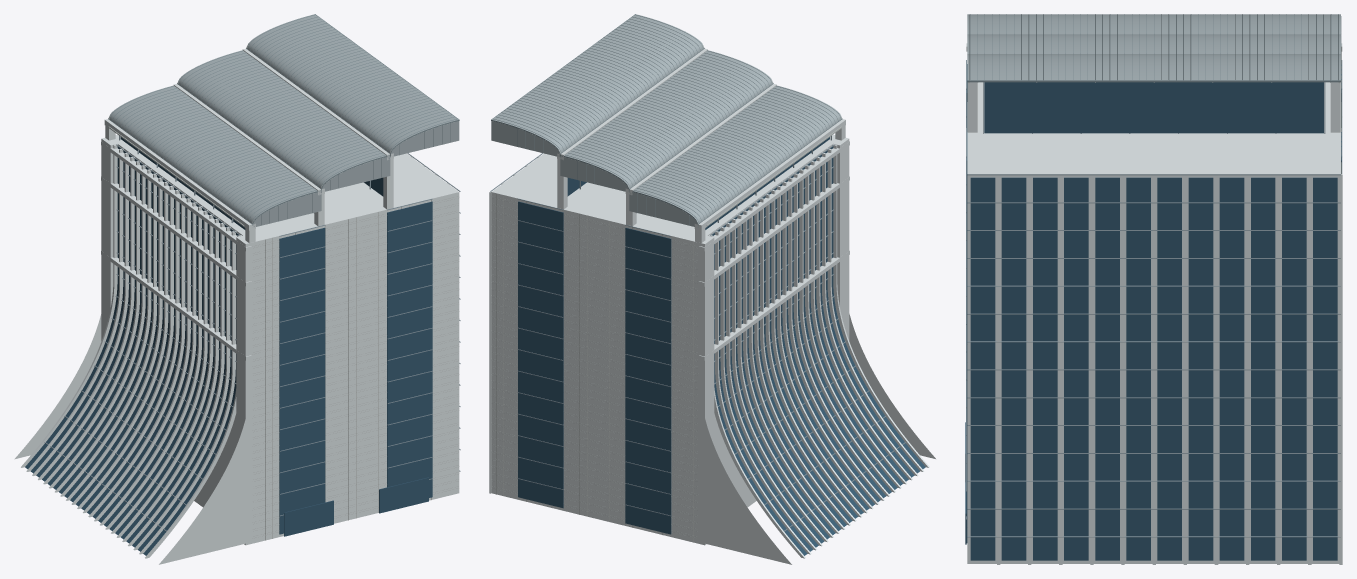
3 renders of one model, left to right at view 1: azimuth 30°, elevation 25°; view 2: azimuth 150°, elevation 25°; view 3: azimuth 270°, elevation 25°, orthographic. The views are drawn at different scales.
Parts seen in each view (by area): view 1: SolidSweptWhiteCheeks, ContinuousWhiteVerticalFins, PaleStructuralTowerCore, EndElevationTallInsetGlass, SweptBlueGreyCurtainWall, CrownTier3_CurvedMetalSkin, CrownTier1_CurvedMetalSkin, CrownTier2_CurvedMetalSkin, WideStoneEdgeSpines, CrownTier3_FoldedStandingSeams, CrownTier2_FoldedStandingSeams, CrownTier1_FoldedStandingSeams (+13 smaller); view 2: PaleStructuralTowerCore, ContinuousWhiteVerticalFins, SolidSweptWhiteCheeks, EndElevationTallInsetGlass, SweptBlueGreyCurtainWall, CrownTier3_CurvedMetalSkin, CrownTier1_CurvedMetalSkin, CrownTier2_CurvedMetalSkin, WideStoneEdgeSpines, CrownTier3_FoldedStandingSeams, CrownTier1_FoldedStandingSeams, CrownTier2_FoldedStandingSeams (+13 smaller); view 3: InnerFaceNarrowWindowStrips, PaleStructuralTowerCore, InnerFaceStoneVerticalBands, RecessedCrownGlazing, CrownTier3_CurvedMetalSkin, InnerFaceFineStoreyBands, CrownTier1_CurvedMetalSkin, CrownTier2_CurvedMetalSkin, CrownTier3_FoldedStandingSeams, CrownTier1_FoldedStandingSeams, CrownTier2_FoldedStandingSeams, CrownTier3_FoldedLeadingAndRearEdges (+3 smaller).
Part boxes in pixels (left/top/right/bottom): SolidSweptWhiteCheeks: left=14, top=192, right=459, bottom=564; ContinuousWhiteVerticalFins: left=21, top=144, right=241, bottom=558; PaleStructuralTowerCore: left=113, top=134, right=459, bottom=543; EndElevationTallInsetGlass: left=279, top=201, right=432, bottom=534; SweptBlueGreyCurtainWall: left=25, top=146, right=238, bottom=555; CrownTier3_CurvedMetalSkin: left=246, top=14, right=458, bottom=153; CrownTier1_CurvedMetalSkin: left=108, top=85, right=317, bottom=223; CrownTier2_CurvedMetalSkin: left=177, top=50, right=386, bottom=188; WideStoneEdgeSpines: left=101, top=138, right=252, bottom=545; CrownTier3_FoldedStandingSeams: left=247, top=14, right=457, bottom=152; CrownTier2_FoldedStandingSeams: left=178, top=50, right=385, bottom=187; CrownTier1_FoldedStandingSeams: left=109, top=86, right=316, bottom=221; PaleStructuralTowerCore: left=491, top=134, right=837, bottom=543; ContinuousWhiteVerticalFins: left=708, top=144, right=929, bottom=558; SolidSweptWhiteCheeks: left=491, top=192, right=935, bottom=564; EndElevationTallInsetGlass: left=518, top=201, right=671, bottom=534; SweptBlueGreyCurtainWall: left=712, top=146, right=925, bottom=555; CrownTier3_CurvedMetalSkin: left=492, top=14, right=704, bottom=153; CrownTier1_CurvedMetalSkin: left=633, top=85, right=842, bottom=223; CrownTier2_CurvedMetalSkin: left=564, top=50, right=773, bottom=188; WideStoneEdgeSpines: left=697, top=138, right=849, bottom=545; CrownTier3_FoldedStandingSeams: left=492, top=14, right=703, bottom=152; CrownTier1_FoldedStandingSeams: left=634, top=86, right=841, bottom=222; CrownTier2_FoldedStandingSeams: left=565, top=50, right=772, bottom=187; InnerFaceNarrowWindowStrips: left=970, top=177, right=1337, bottom=560; PaleStructuralTowerCore: left=967, top=82, right=1340, bottom=563; InnerFaceStoneVerticalBands: left=997, top=174, right=1342, bottom=564; RecessedCrownGlazing: left=984, top=82, right=1323, bottom=133; CrownTier3_CurvedMetalSkin: left=967, top=54, right=1340, bottom=80; InnerFaceFineStoreyBands: left=967, top=174, right=1340, bottom=537; CrownTier1_CurvedMetalSkin: left=967, top=14, right=1340, bottom=34; CrownTier2_CurvedMetalSkin: left=967, top=34, right=1340, bottom=53; CrownTier3_FoldedStandingSeams: left=969, top=53, right=1338, bottom=80; CrownTier1_FoldedStandingSeams: left=969, top=14, right=1338, bottom=33; CrownTier2_FoldedStandingSeams: left=969, top=34, right=1338, bottom=53; CrownTier3_FoldedLeadingAndRearEdges: left=967, top=80, right=1340, bottom=82.
Size of the model in its own units: 56.48 by 66.04 by 46.65.
